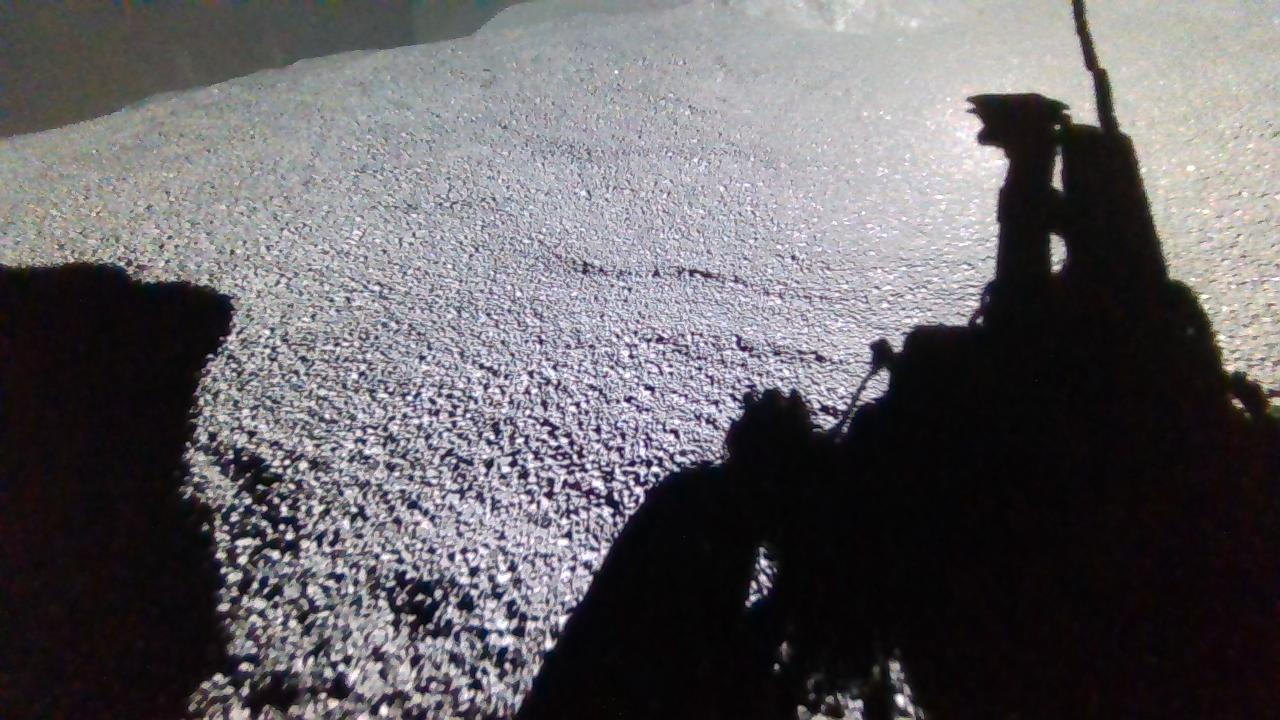rock: (730, 0, 986, 32)
